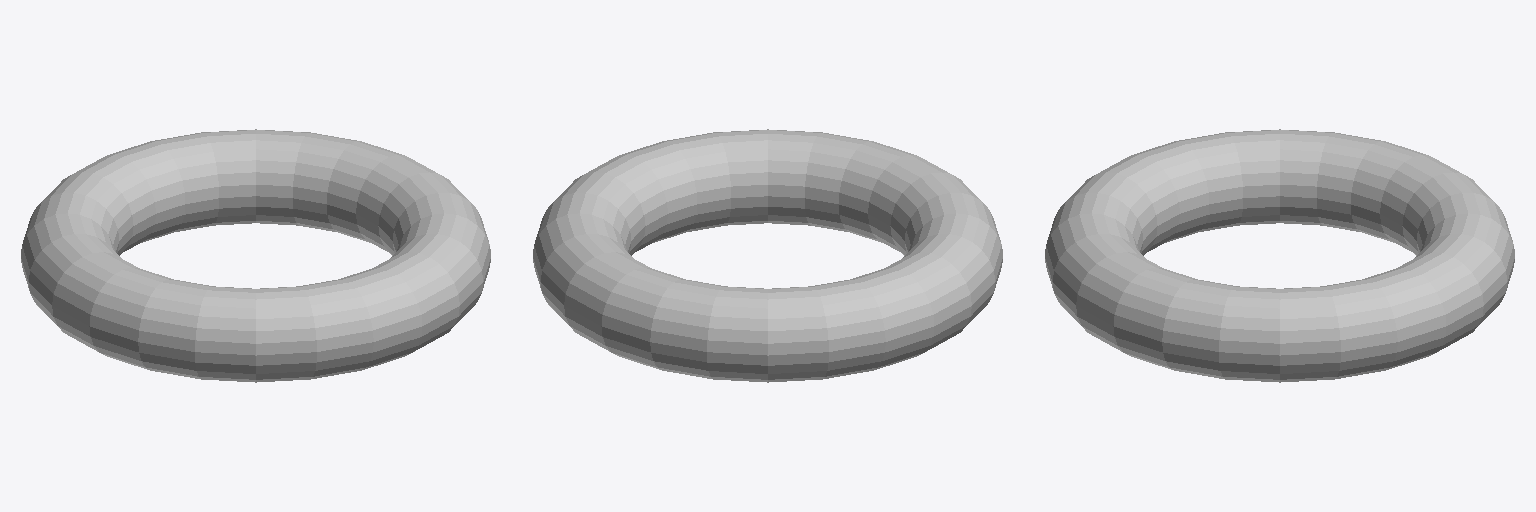
File: tore.obj
3 renders of one model, left to right at view 1: azimuth 30°, elevation 25°; view 2: azimuth 150°, elevation 25°; view 3: azimuth 270°, elevation 25°, orthographic.
Visible parts, largest first — view 1: Torus; view 2: Torus; view 3: Torus.
Part boxes in pixels (bbox=[...]): Torus: bbox=[21, 129, 490, 382]; Torus: bbox=[533, 129, 1002, 382]; Torus: bbox=[1045, 129, 1514, 382].
Bounding box in the file's own units: 2.5 × 0.5 × 2.5.